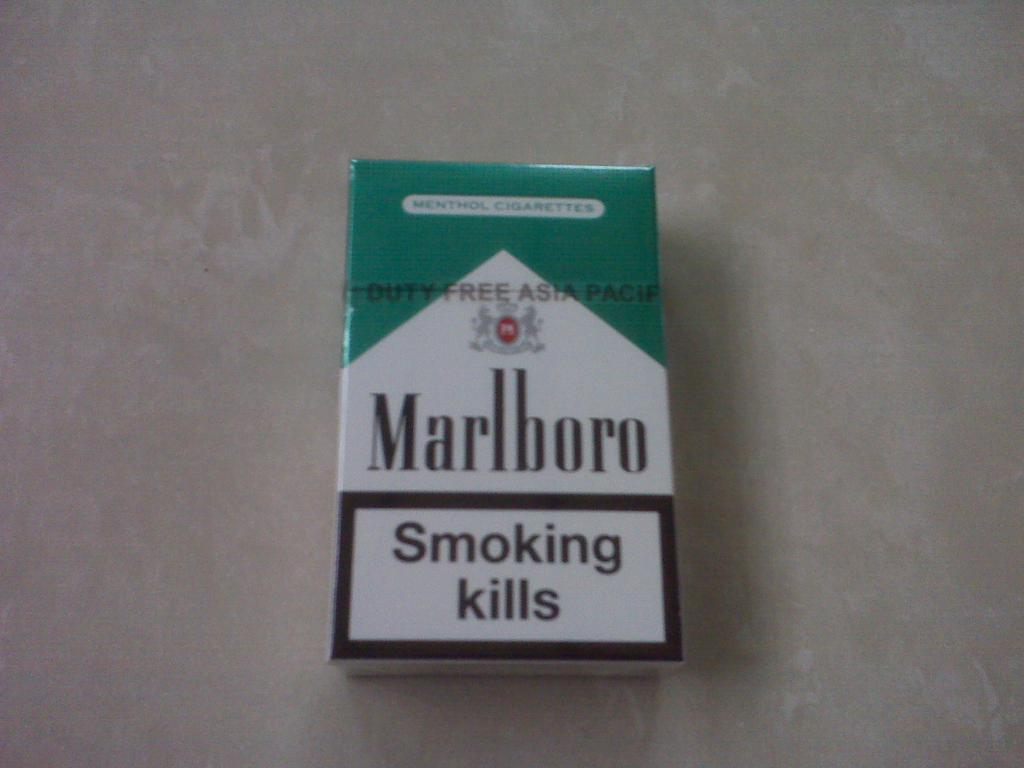marlboro_mentol: (336, 161, 672, 656)
